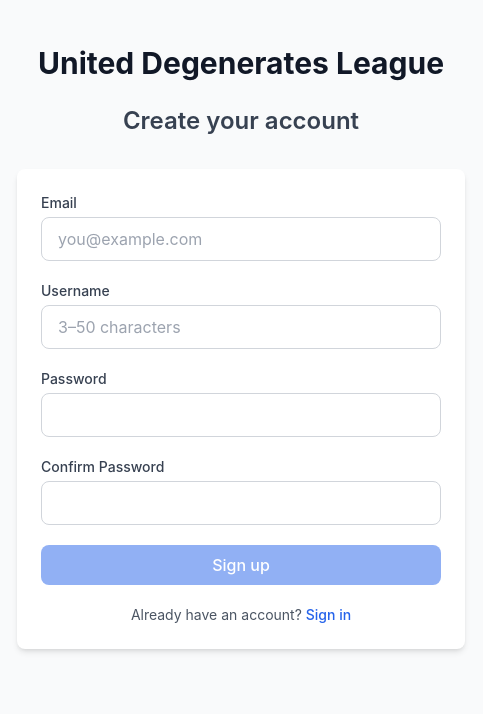
it: Register — successful submission › shows loading text while submitting
In the field labelled "Email": (241, 239) [41, 217, 441, 261], type "bob@example.com"
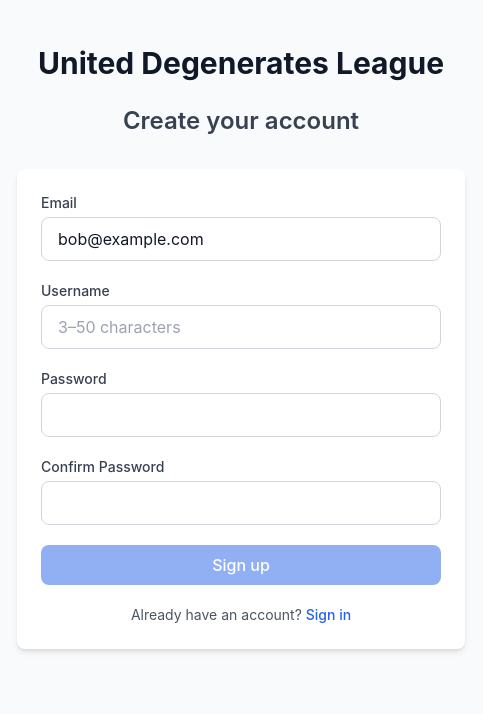
In the field labelled "Username": (241, 327) [41, 305, 441, 349], type "bob"
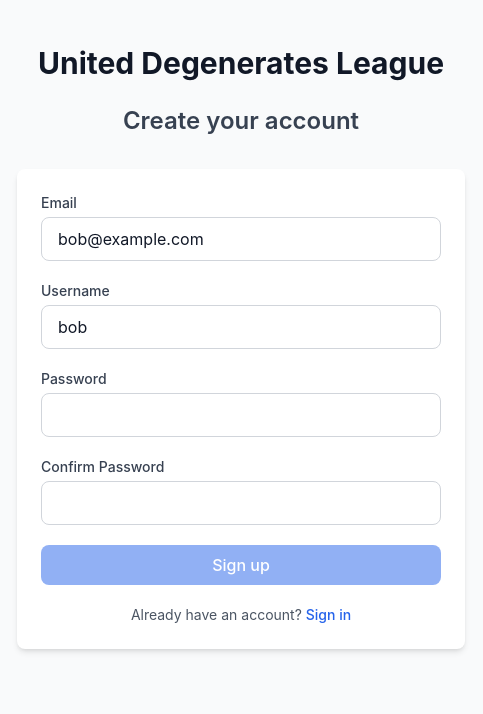
In the password field labelled "Password": (241, 415) [41, 393, 441, 437], type "Password123!"
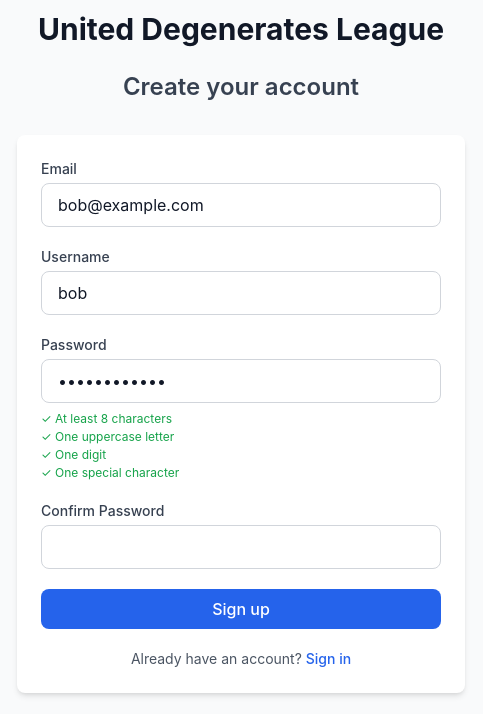
In the password field labelled "Confirm Password": (241, 547) [41, 525, 441, 569], type "Password123!"
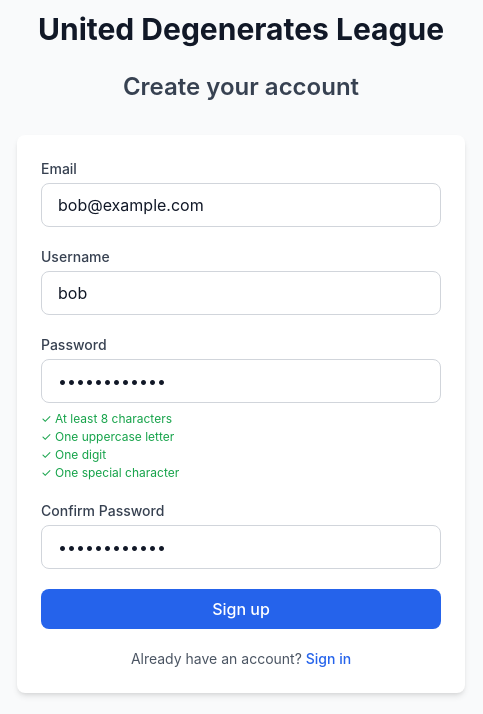
Click the button "Sign up": (241, 609) [41, 589, 441, 629]
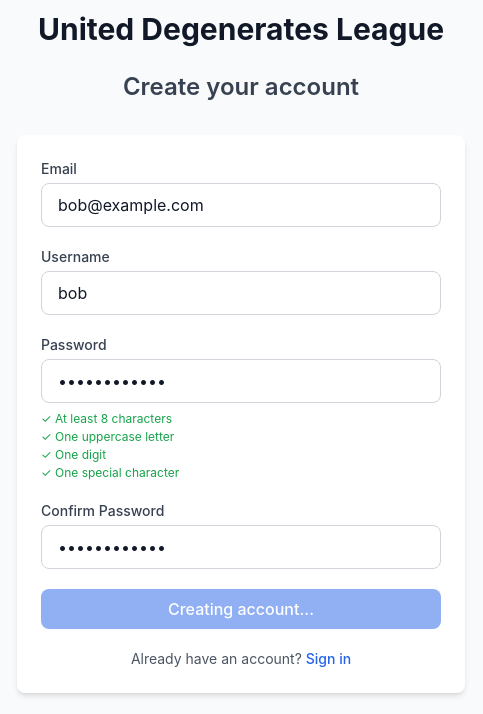
Check: the button "Creating account..." is disabled, box [41, 589, 441, 629]
